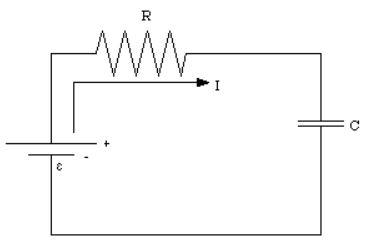Capacitor: (285, 102, 346, 146)
